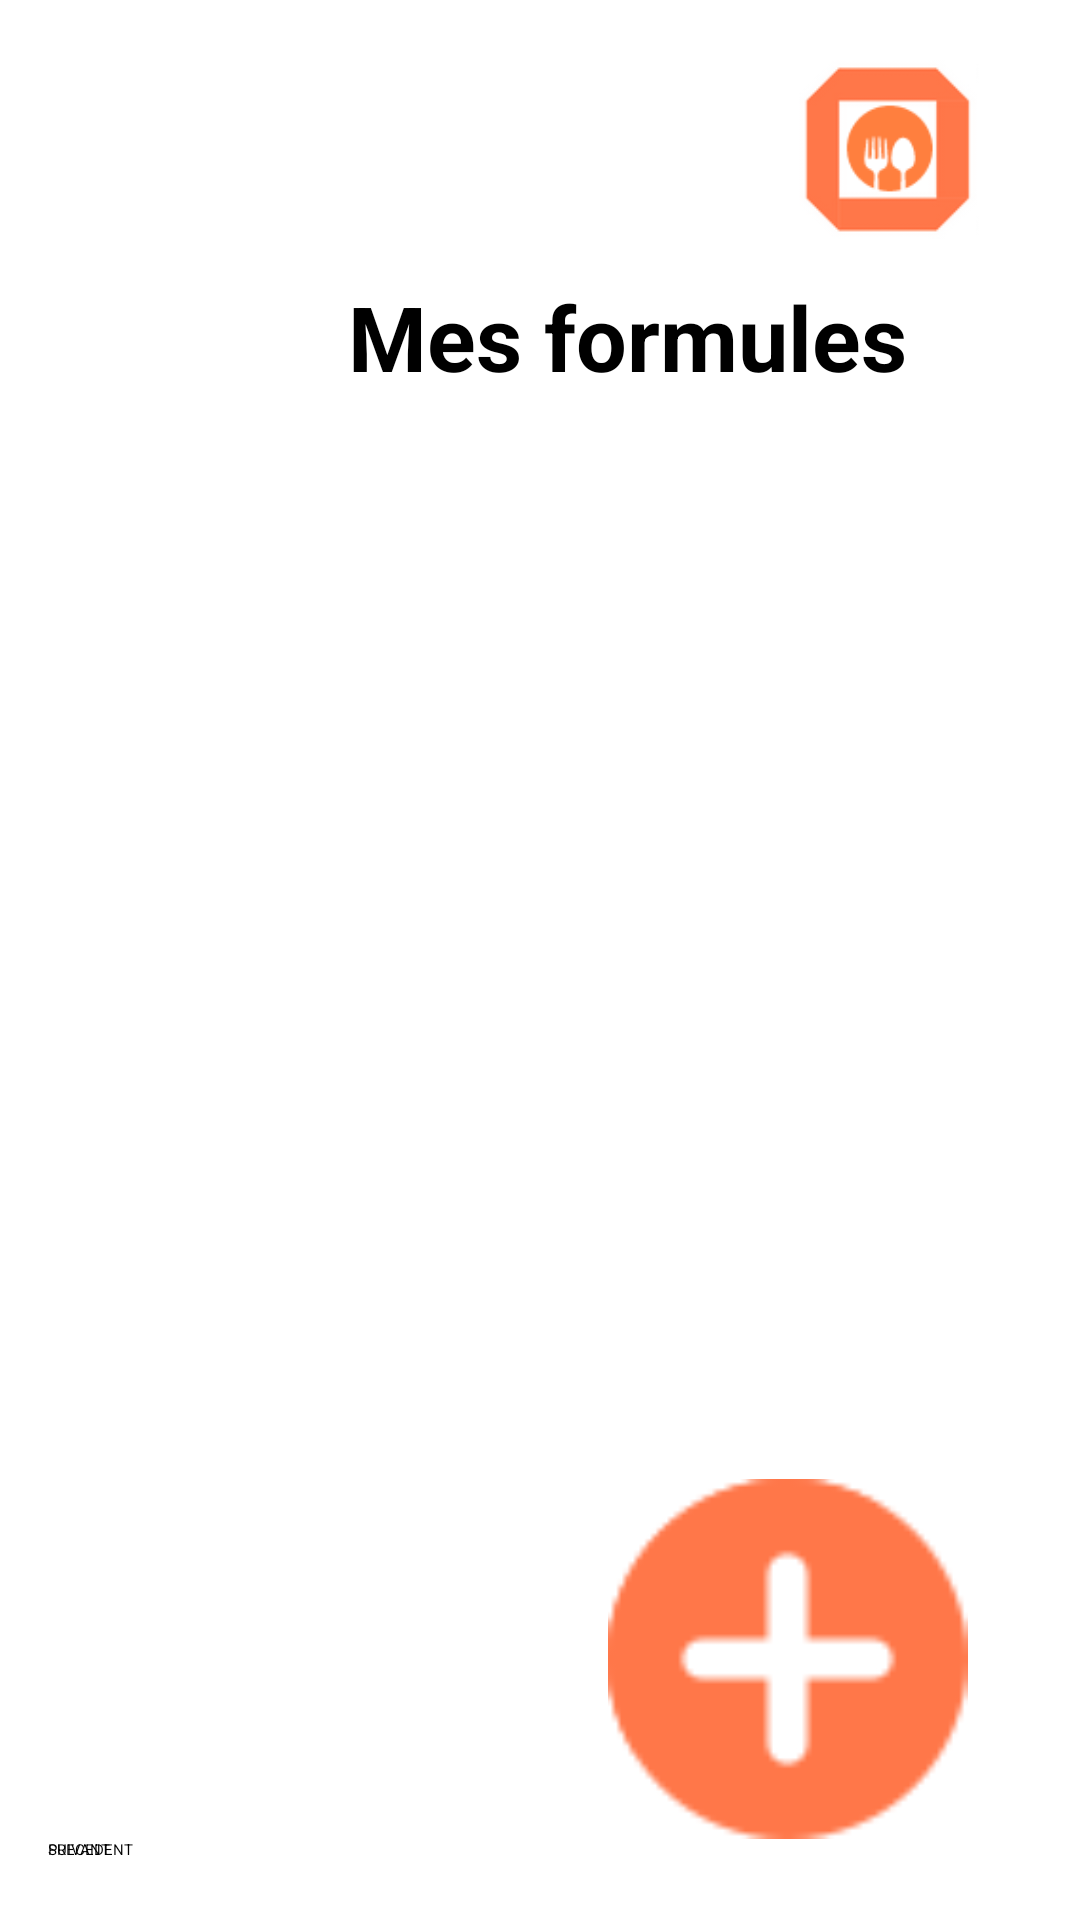

Named icons in this screenshot (1080w x 1920h) and their bounding boxes, (x1, y1, x2, y2):
plus: (608, 1479, 968, 1839)
